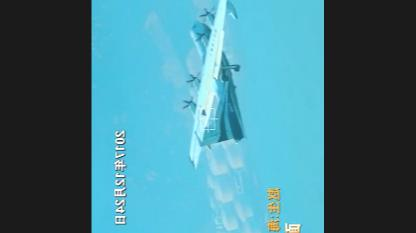AG600: (180, 0, 247, 169)
